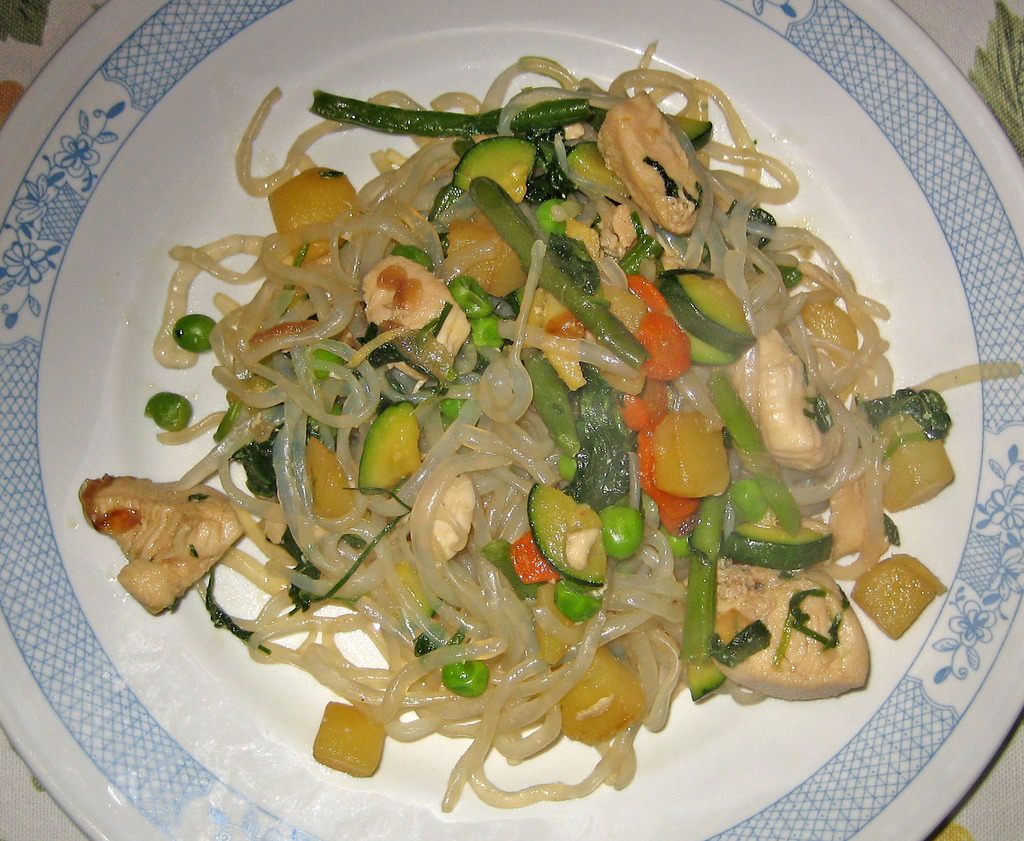pasta: (190, 46, 821, 599)
